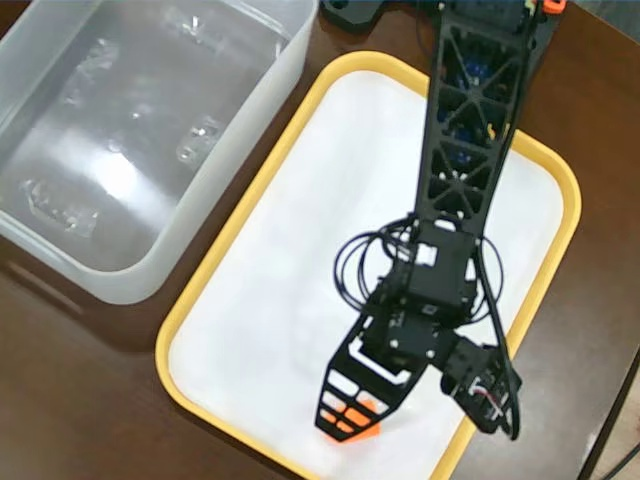pill: (330, 392, 419, 448)
